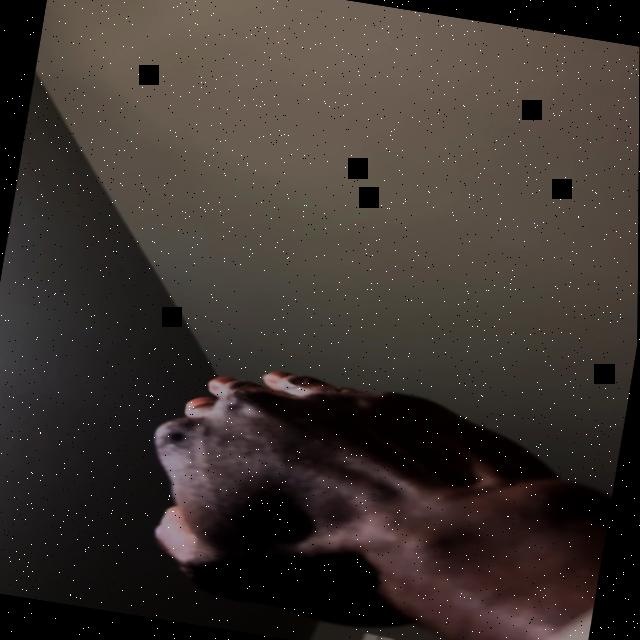Paper: (127, 351, 590, 640)
